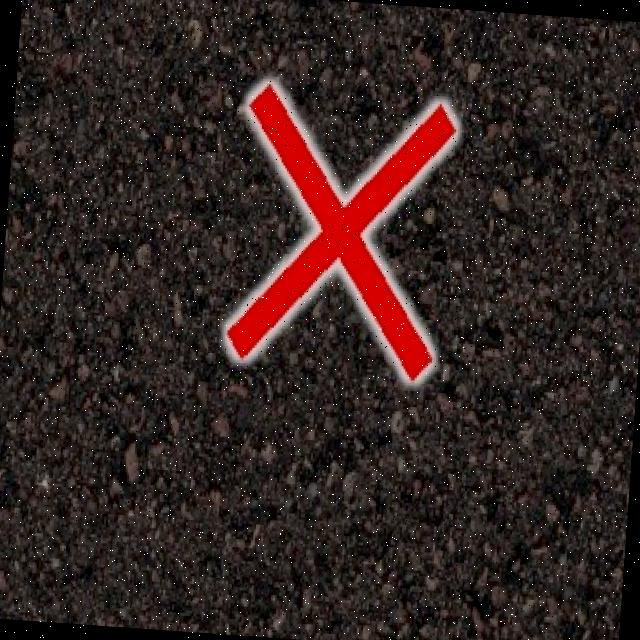x_marker: (224, 80, 457, 380)
